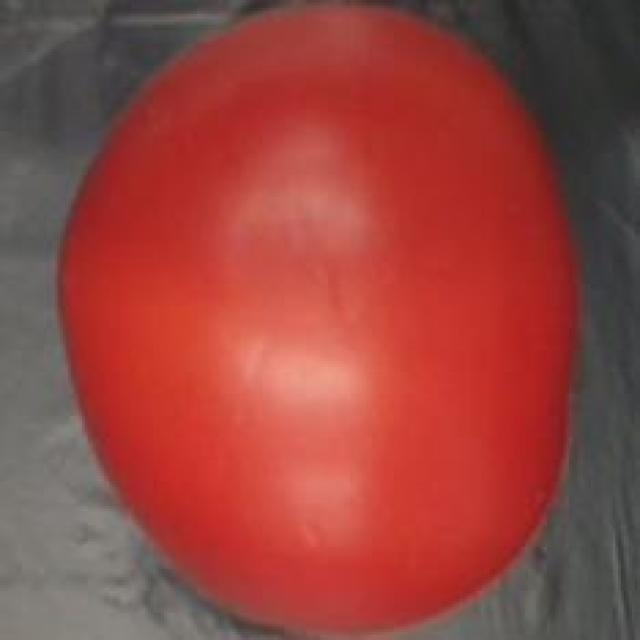ripe tomato: (47, 0, 588, 640)
